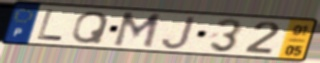2: (243, 21, 283, 56)
3: (204, 18, 247, 54)
J: (160, 15, 198, 51)
L: (35, 9, 66, 43)
M: (110, 11, 164, 51)
Q: (70, 10, 112, 45)
